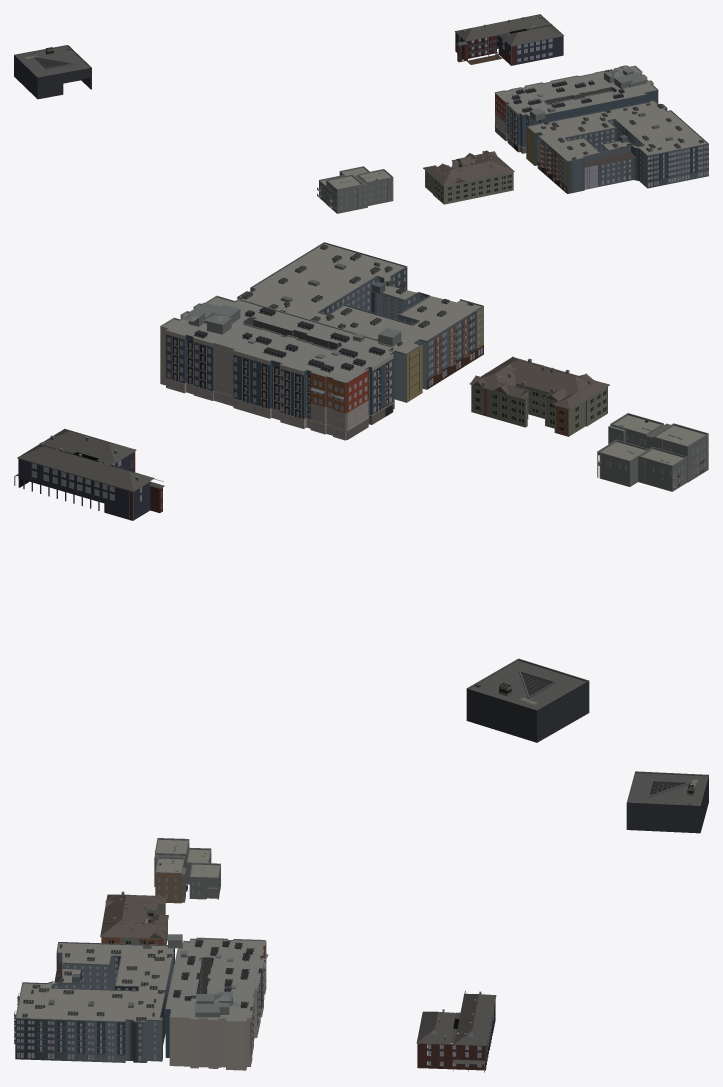
3 renders of one model, top to bottom at view 1: azimuth 30°, elevation 25°; view 2: azimuth 150°, elevation 25°; view 3: azimuth 270°, elevation 25°, orthographic. The views are drawn at different scales.
Parts seen in each view (by area): view 1: opaque, glass; view 2: opaque, glass; view 3: opaque, glass.
Part boxes in pixels (box(x1,y1,x2,y2)): opaque: box(14, 14, 708, 213); glass: box(37, 25, 708, 209); opaque: box(14, 242, 708, 742); glass: box(32, 270, 706, 695); opaque: box(14, 771, 708, 1072); glass: box(17, 781, 685, 1066).
Bounding box in the file's own units: 257 × 26.7 × 276.
Materials: 2 (2 with a texture image).
